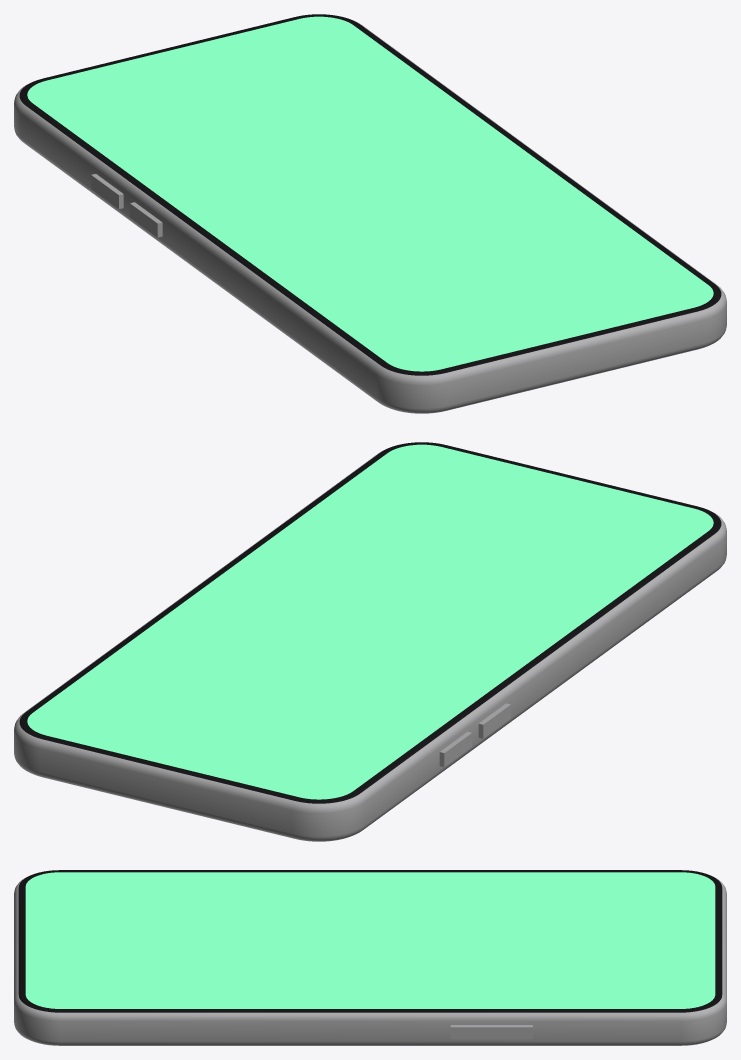
Rendered from phone.glb.
The picture shows the model from 3 angles, top to bottom: view 1: azimuth 30°, elevation 25°; view 2: azimuth 150°, elevation 25°; view 3: azimuth 270°, elevation 25°; orthographic projection. The views are drawn at different scales.
Visible parts, largest first — view 1: SCREEN, PHONE_BODY; view 2: SCREEN, PHONE_BODY; view 3: SCREEN, PHONE_BODY, BTN_POWER.
Part boxes in pixels (bbox=[...]): SCREEN: bbox=[27, 16, 713, 371]; PHONE_BODY: bbox=[14, 14, 726, 413]; SCREEN: bbox=[27, 444, 713, 799]; PHONE_BODY: bbox=[14, 442, 726, 841]; SCREEN: bbox=[25, 872, 715, 1008]; PHONE_BODY: bbox=[14, 870, 726, 1045]; BTN_POWER: bbox=[450, 1025, 532, 1039].
Size of the model in its own units: 0.0735 by 0.0102 by 0.147.
